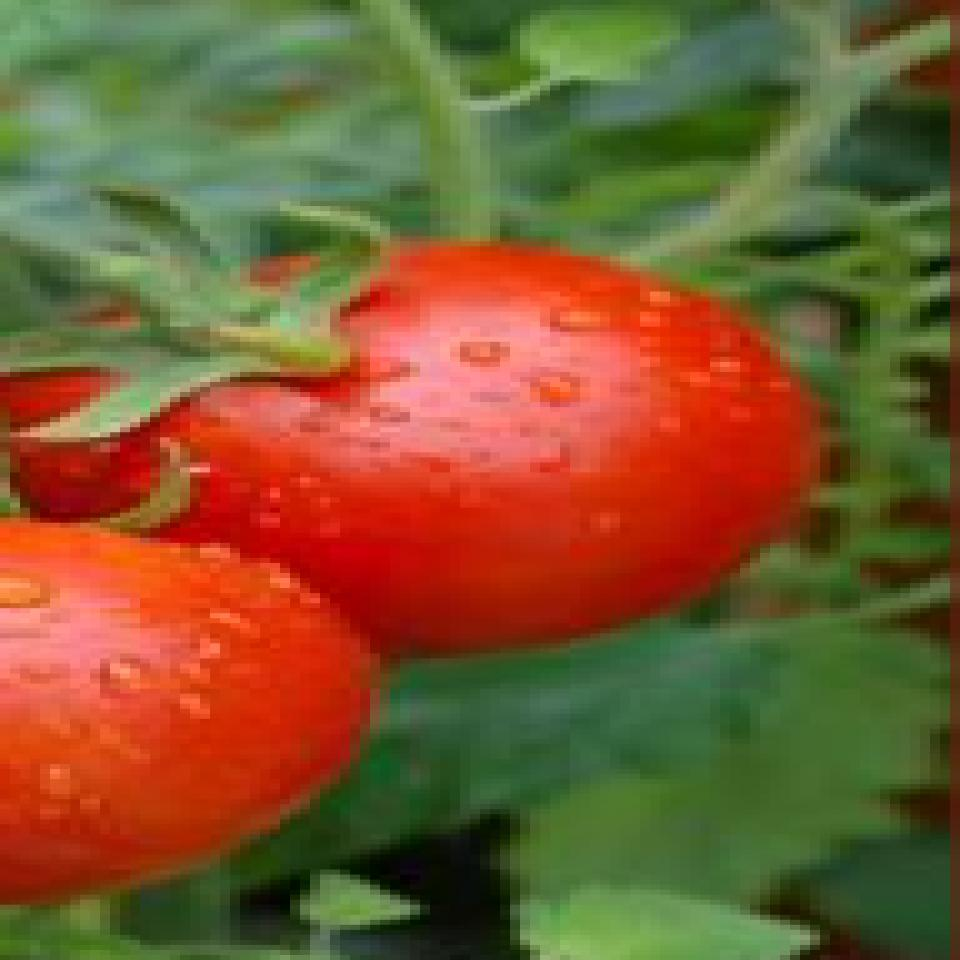Healthy: (23, 246, 788, 639), (0, 503, 386, 910)
